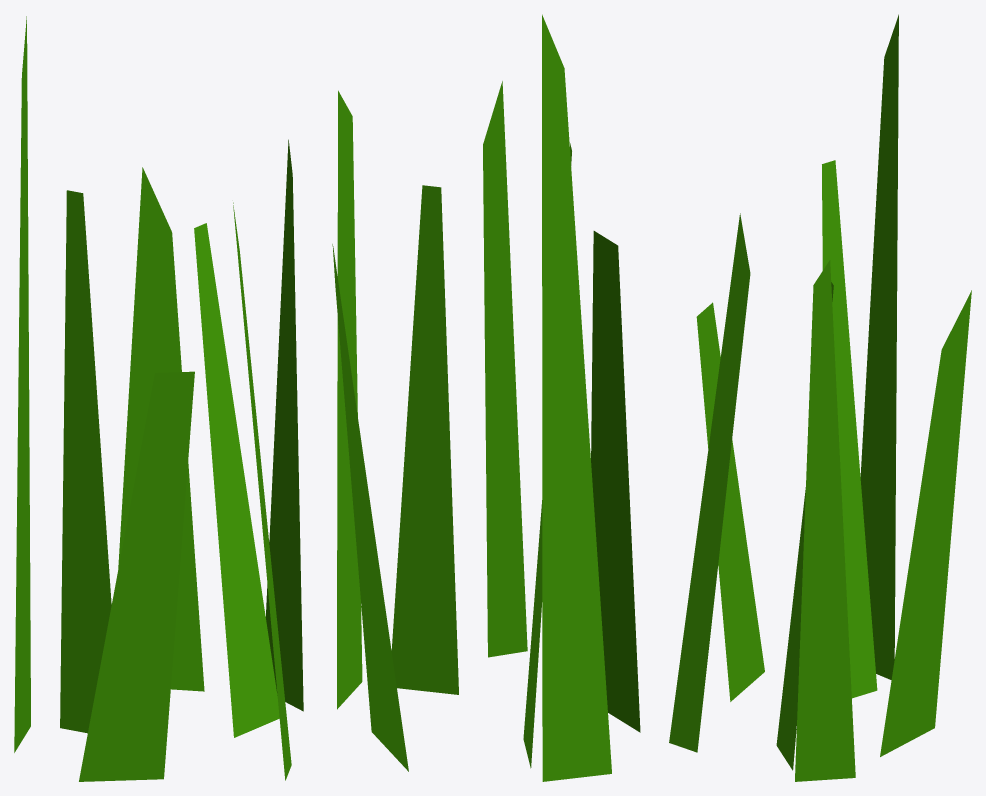
File: Grass2Fresh.fbx
The picture shows the model from 3 angles, left to right: view 1: azimuth 30°, elevation 25°; view 2: azimuth 150°, elevation 25°; view 3: azimuth 270°, elevation 25°; orthographic projection. The views are drawn at different scales.
Parts seen in each view (by area): view 1: Plane; view 2: Plane; view 3: Plane.
Boxes of the visible parts, <box> form: Plane: <box>14,16,303,781</box>; Plane: <box>332,14,640,781</box>; Plane: <box>669,14,971,781</box>.
Size of the model in its own units: 0.2177 by 0.5612 by 0.231.
